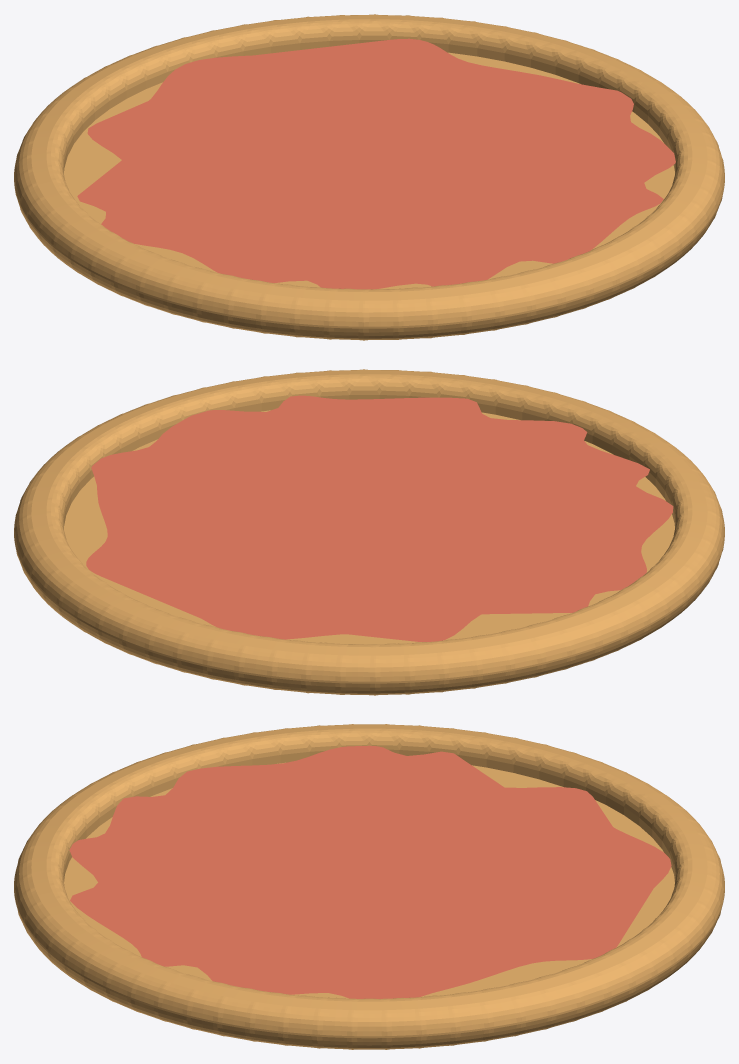
Rendered from pizzaWithPizzacream.fbx.
The picture shows the model from 3 angles, top to bottom: view 1: azimuth 30°, elevation 25°; view 2: azimuth 150°, elevation 25°; view 3: azimuth 270°, elevation 25°; orthographic projection.
Visible parts, largest first — view 1: PizzaWithPizzacream; view 2: PizzaWithPizzacream; view 3: PizzaWithPizzacream.
Boxes of the visible parts, x1,y1,x2,y2 form: PizzaWithPizzacream: (14,14,724,340); PizzaWithPizzacream: (14,369,724,695); PizzaWithPizzacream: (14,724,724,1049).
Bounding box in the file's own units: 232 × 17.89 × 232.
